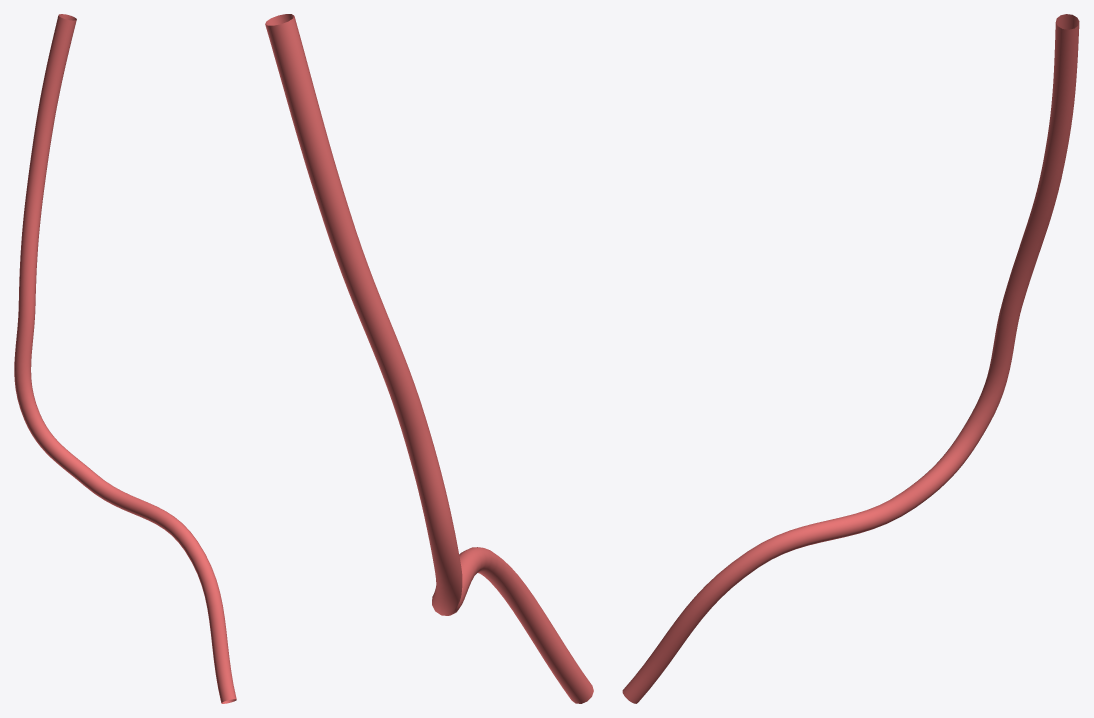
The model's file is Recurrent_interosseous_artery_right.glb.
3 renders of one model, left to right at view 1: azimuth 30°, elevation 25°; view 2: azimuth 150°, elevation 25°; view 3: azimuth 270°, elevation 25°, orthographic. The views are drawn at different scales.
Parts seen in each view (by area): view 1: Recurrent_interosseus_artery.r_BezierCurve.234; view 2: Recurrent_interosseus_artery.r_BezierCurve.234; view 3: Recurrent_interosseus_artery.r_BezierCurve.234.
Boxes of the visible parts, left/top/right/bottom form: Recurrent_interosseus_artery.r_BezierCurve.234: left=14, top=14, right=236, bottom=703; Recurrent_interosseus_artery.r_BezierCurve.234: left=265, top=14, right=593, bottom=703; Recurrent_interosseus_artery.r_BezierCurve.234: left=622, top=14, right=1079, bottom=703.
Size of the model in its own units: 0.0132 by 0.0799 by 0.0478.
